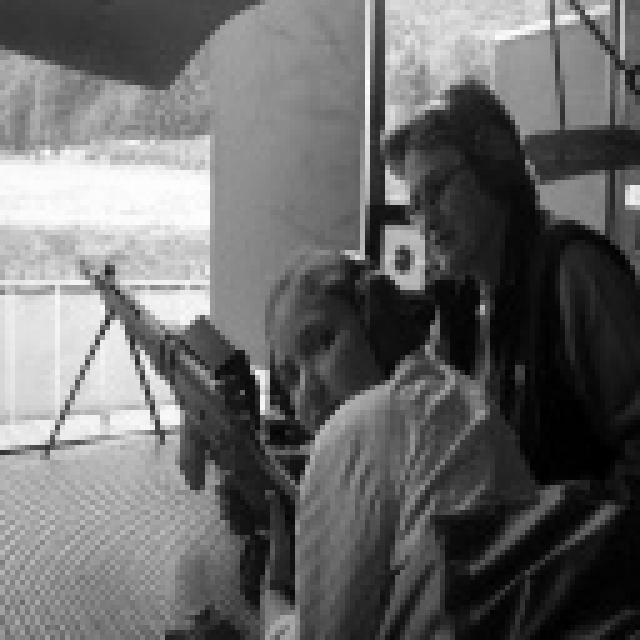Rifle: (0, 234, 336, 556)
